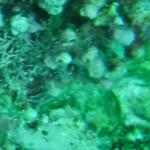dead: (1, 7, 147, 148)
